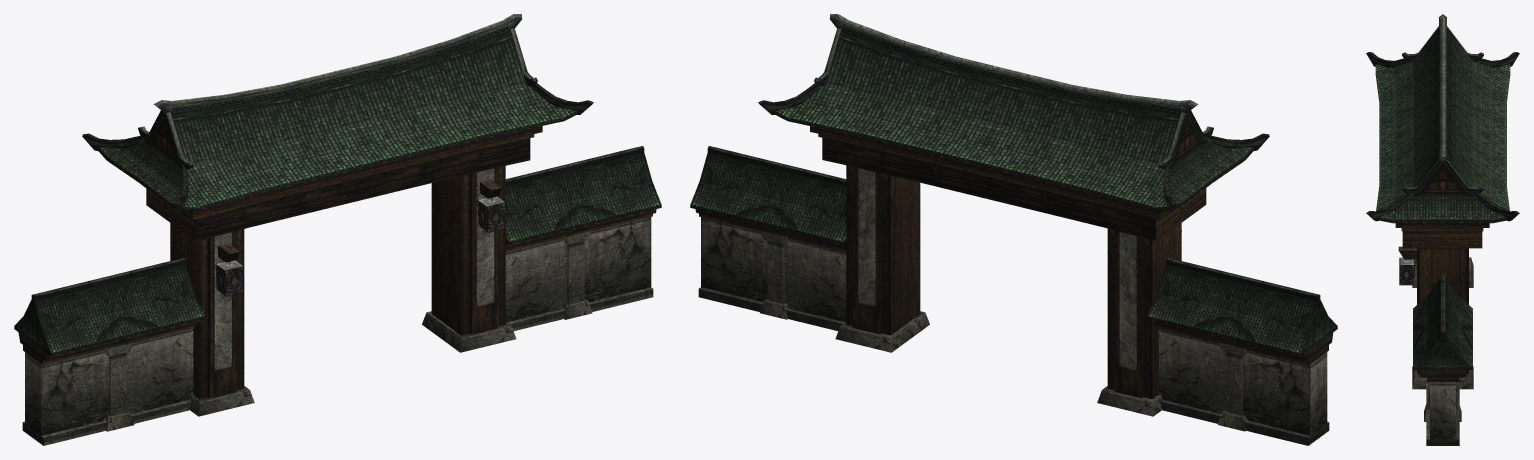
The model's file is c1-038-wall-door_01.fbx.
3 renders of one model, left to right at view 1: azimuth 30°, elevation 25°; view 2: azimuth 150°, elevation 25°; view 3: azimuth 270°, elevation 25°, orthographic. The views are drawn at different scales.
Parts seen in each view (by area): view 1: a1-038-wall; view 2: a1-038-wall; view 3: a1-038-wall.
Part boxes in pixels (left/top/right/bottom): a1-038-wall: left=14, top=14, right=661, bottom=445; a1-038-wall: left=690, top=14, right=1337, bottom=445; a1-038-wall: left=1366, top=14, right=1519, bottom=445.
Bounding box in the file's own units: 20 × 9.62 × 5.49.
